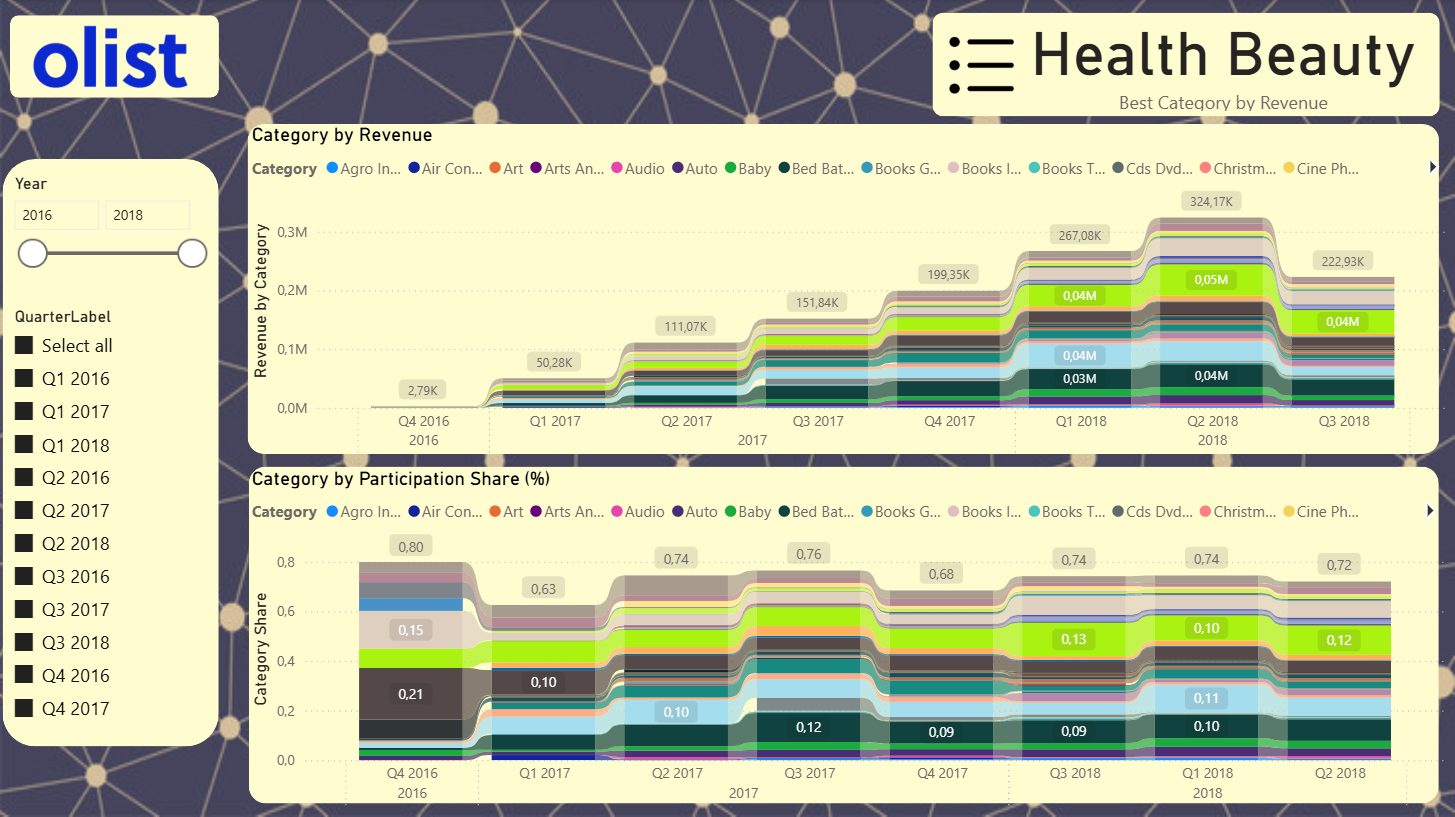

What the dashboard file says about the page in this screenshot:
{"tool":"powerbi","page":{"name":"Category Mix","canvas":[1280,720],"ordinal":1},"visuals":[{"type":"shape","box":[0,140.5,189.9,517.2],"z":0},{"type":"shape","box":[219.3,410.7,1046.9,296.5],"z":1000},{"type":"shape","box":[217.7,109.6,1048.4,290.3],"z":2000},{"type":"shape","box":[819.9,12.4,446.2,91.1],"z":3000},{"type":"columnChart","title":"Category by Revenue","fields":{"Series":["analytics vw_category_share_quarter_sp.category"],"Category":["Date.Year","Date.QuarterLabel"],"Y":["analytics vw_category_share_quarter_sp._Revenue by Category"]},"box":[216.8,109,1063.5,301.7],"z":4000},{"type":"slicer","fields":{"Values":["Date.Year"]},"box":[0,148.2,189.9,171.4],"z":5000},{"type":"slicer","fields":{"Values":["Date.QuarterLabel"]},"box":[0,265.6,189.9,392.2],"z":6000},{"type":"card","fields":{"Values":["analytics vw_category_share_quarter_sp._Best Category by Revenue"]},"box":[887.8,0,378.3,103.4],"z":7000},{"type":"columnChart","title":"Category by Participation Share (%)","fields":{"Series":["analytics vw_category_share_quarter_sp.category"],"Category":["Date.Year","Date.QuarterLabel"],"Y":["analytics vw_category_share_quarter_sp._Category Share"]},"box":[216.8,410.7,1061,309.3],"z":8000},{"type":"shape","box":[9.3,13.9,183.7,72.6],"z":8001},{"type":"image","box":[0,13.9,193,72.6],"z":8002},{"type":"image","box":[819.9,18.5,86.5,80.3],"z":8003}]}

Visuals, with their boxes in screenshot pixels (x1, y1, x2, y2), scaled from the page's 1280x720 canvas onto the 1455x817 screenshot:
shape: (left=0, top=159, right=216, bottom=746)
shape: (left=249, top=466, right=1439, bottom=802)
shape: (left=247, top=124, right=1439, bottom=454)
shape: (left=932, top=14, right=1439, bottom=117)
"Category by Revenue" columnChart: (left=246, top=124, right=1454, bottom=466)
slicer - Date.Year: (left=0, top=168, right=216, bottom=363)
slicer - Date.QuarterLabel: (left=0, top=301, right=216, bottom=746)
card - analytics vw_category_share_quarter_sp._Best Category by Revenue: (left=1009, top=0, right=1439, bottom=117)
"Category by Participation Share (%)" columnChart: (left=246, top=466, right=1452, bottom=816)
shape: (left=11, top=16, right=219, bottom=98)
image: (left=0, top=16, right=219, bottom=98)
image: (left=932, top=21, right=1030, bottom=112)
